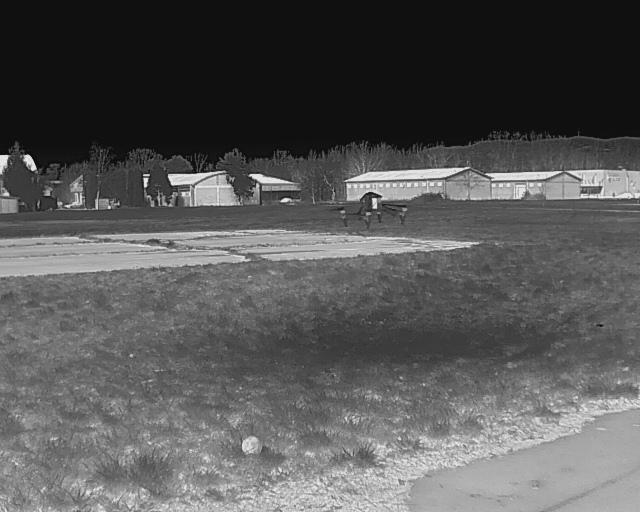drone: (324, 186, 418, 236)
